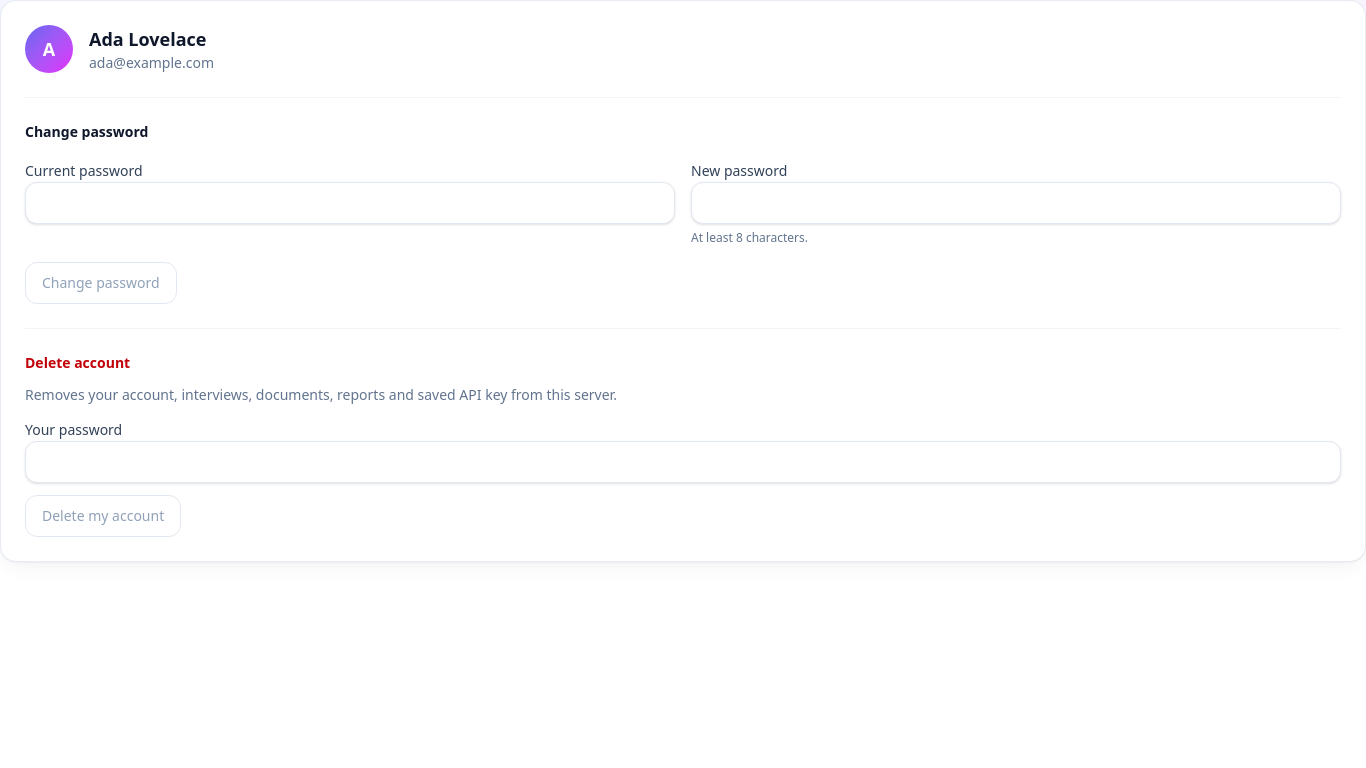
Test case: AccountCard › changes the password and tells the user other devices were signed out
In the password field labelled "Current password": (350, 203) [25,182,675,224], type "old password"
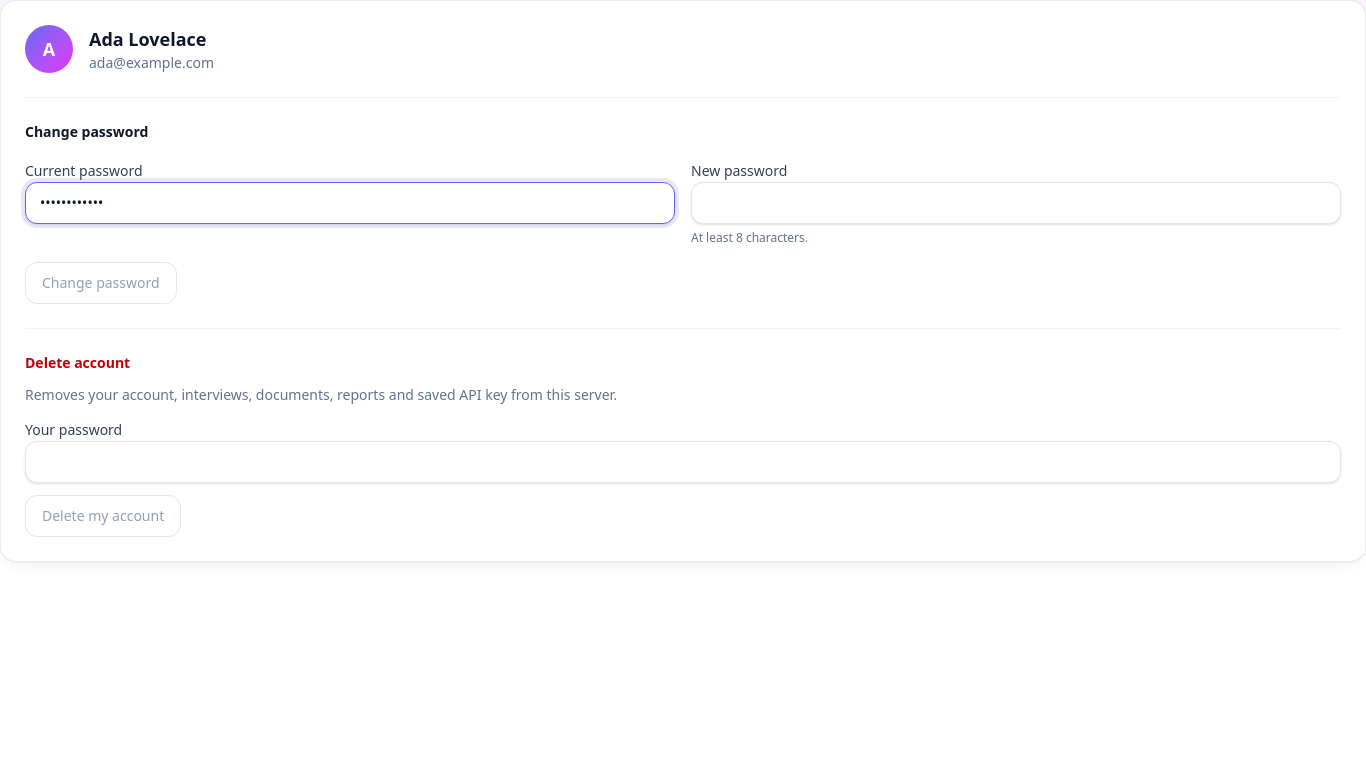
In the password field labelled "New password": (1016, 203) [691,182,1341,224], type "a brand new password"
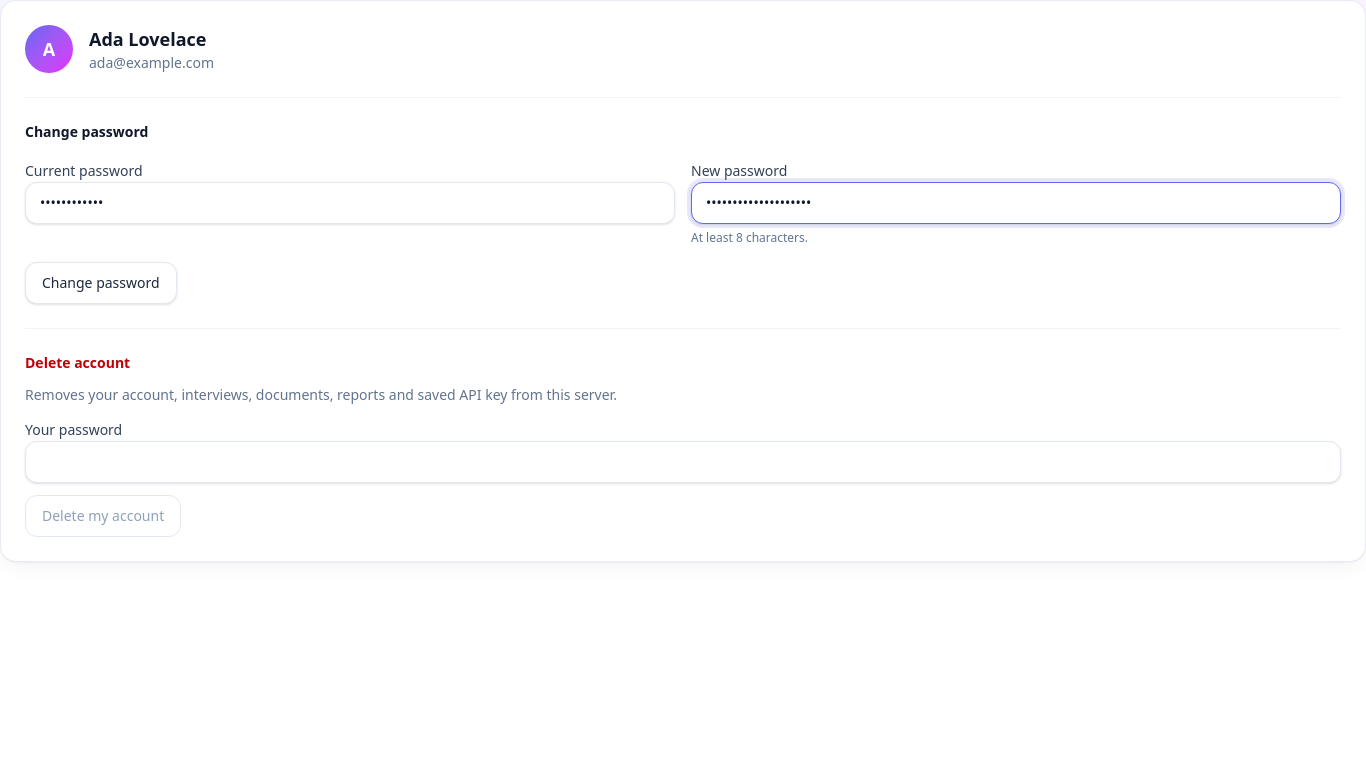
Click the button "Change password": (101, 283) [25,262,177,304]
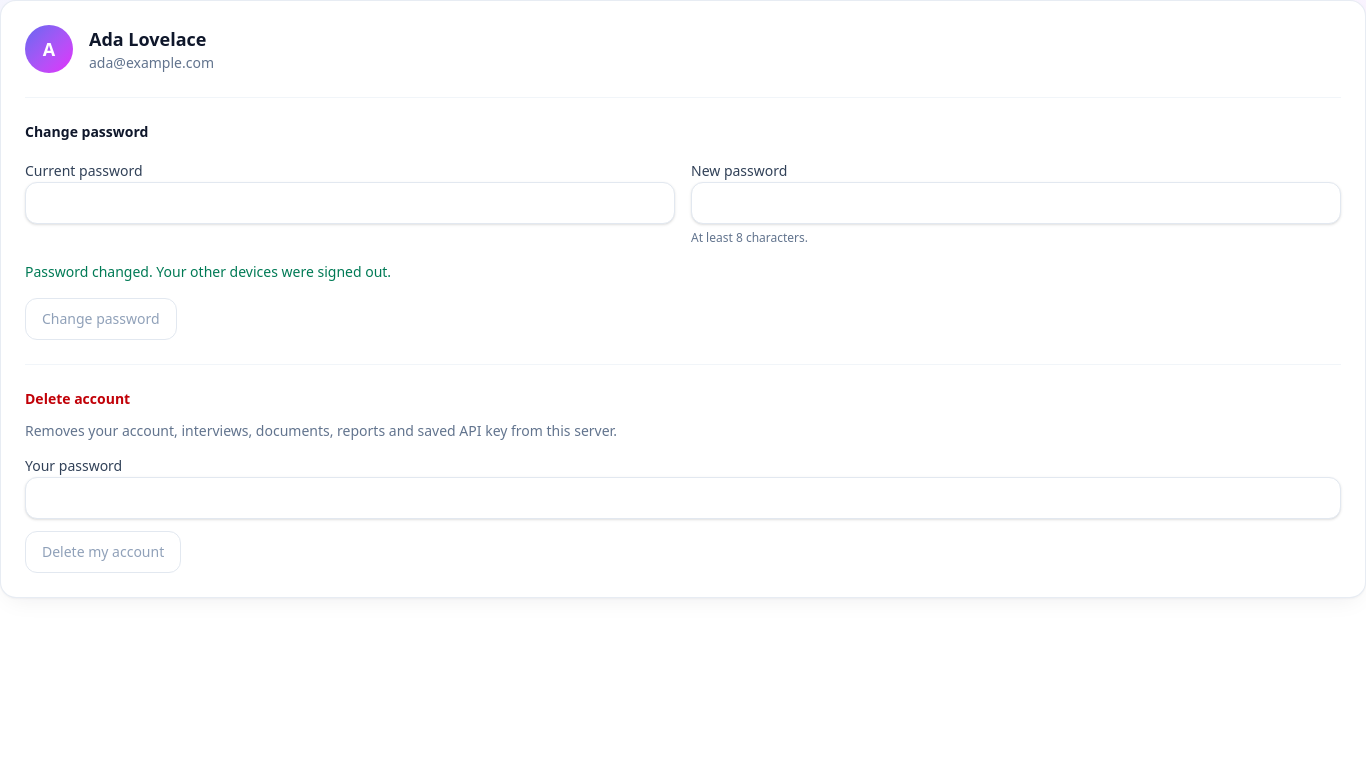
Check: the message shows "other devices were signed out", box [25,262,391,281]
Check: the password field labelled "Current password" is empty, box [25,182,675,224]
